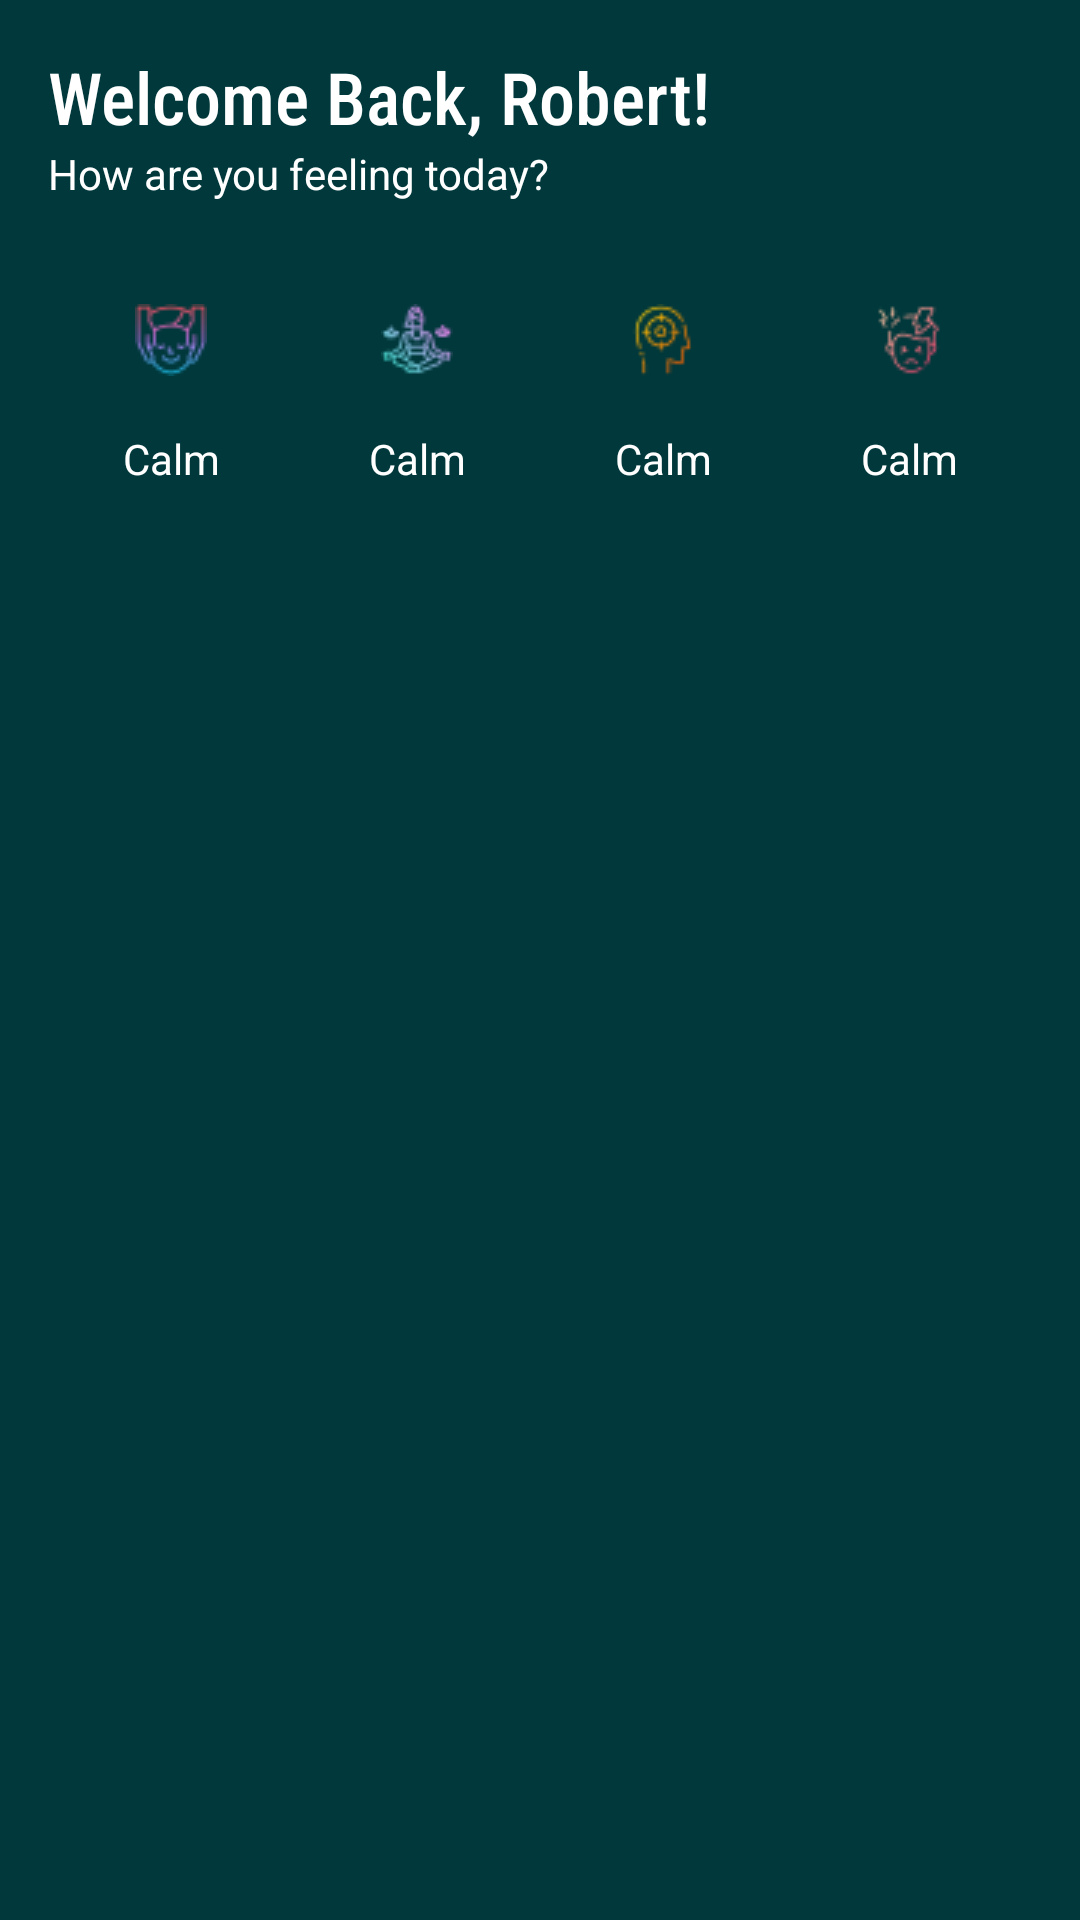

Screen size 1080w x 1920h. Icon name, then its center in pixels as point (x, y):
anxious: point (909, 340)
focus: point (663, 339)
